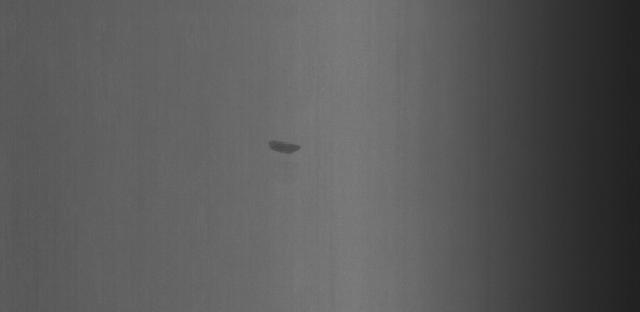oil_spot: (263, 130, 312, 166)
